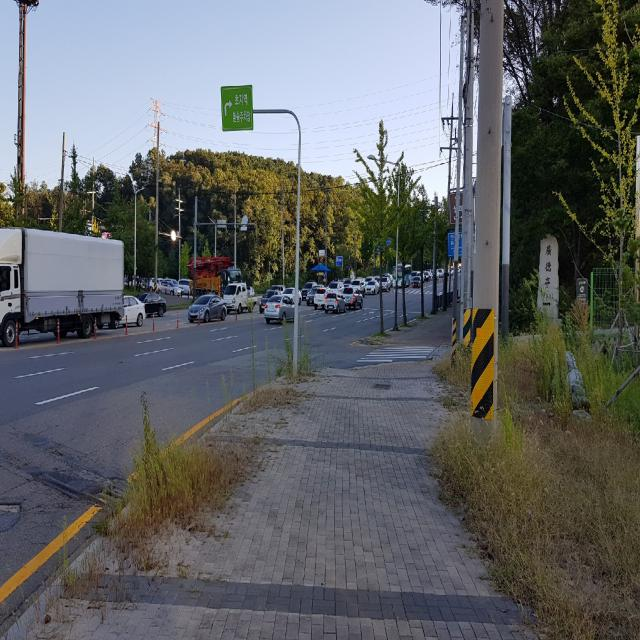횡단보도: (356, 346, 437, 363)
